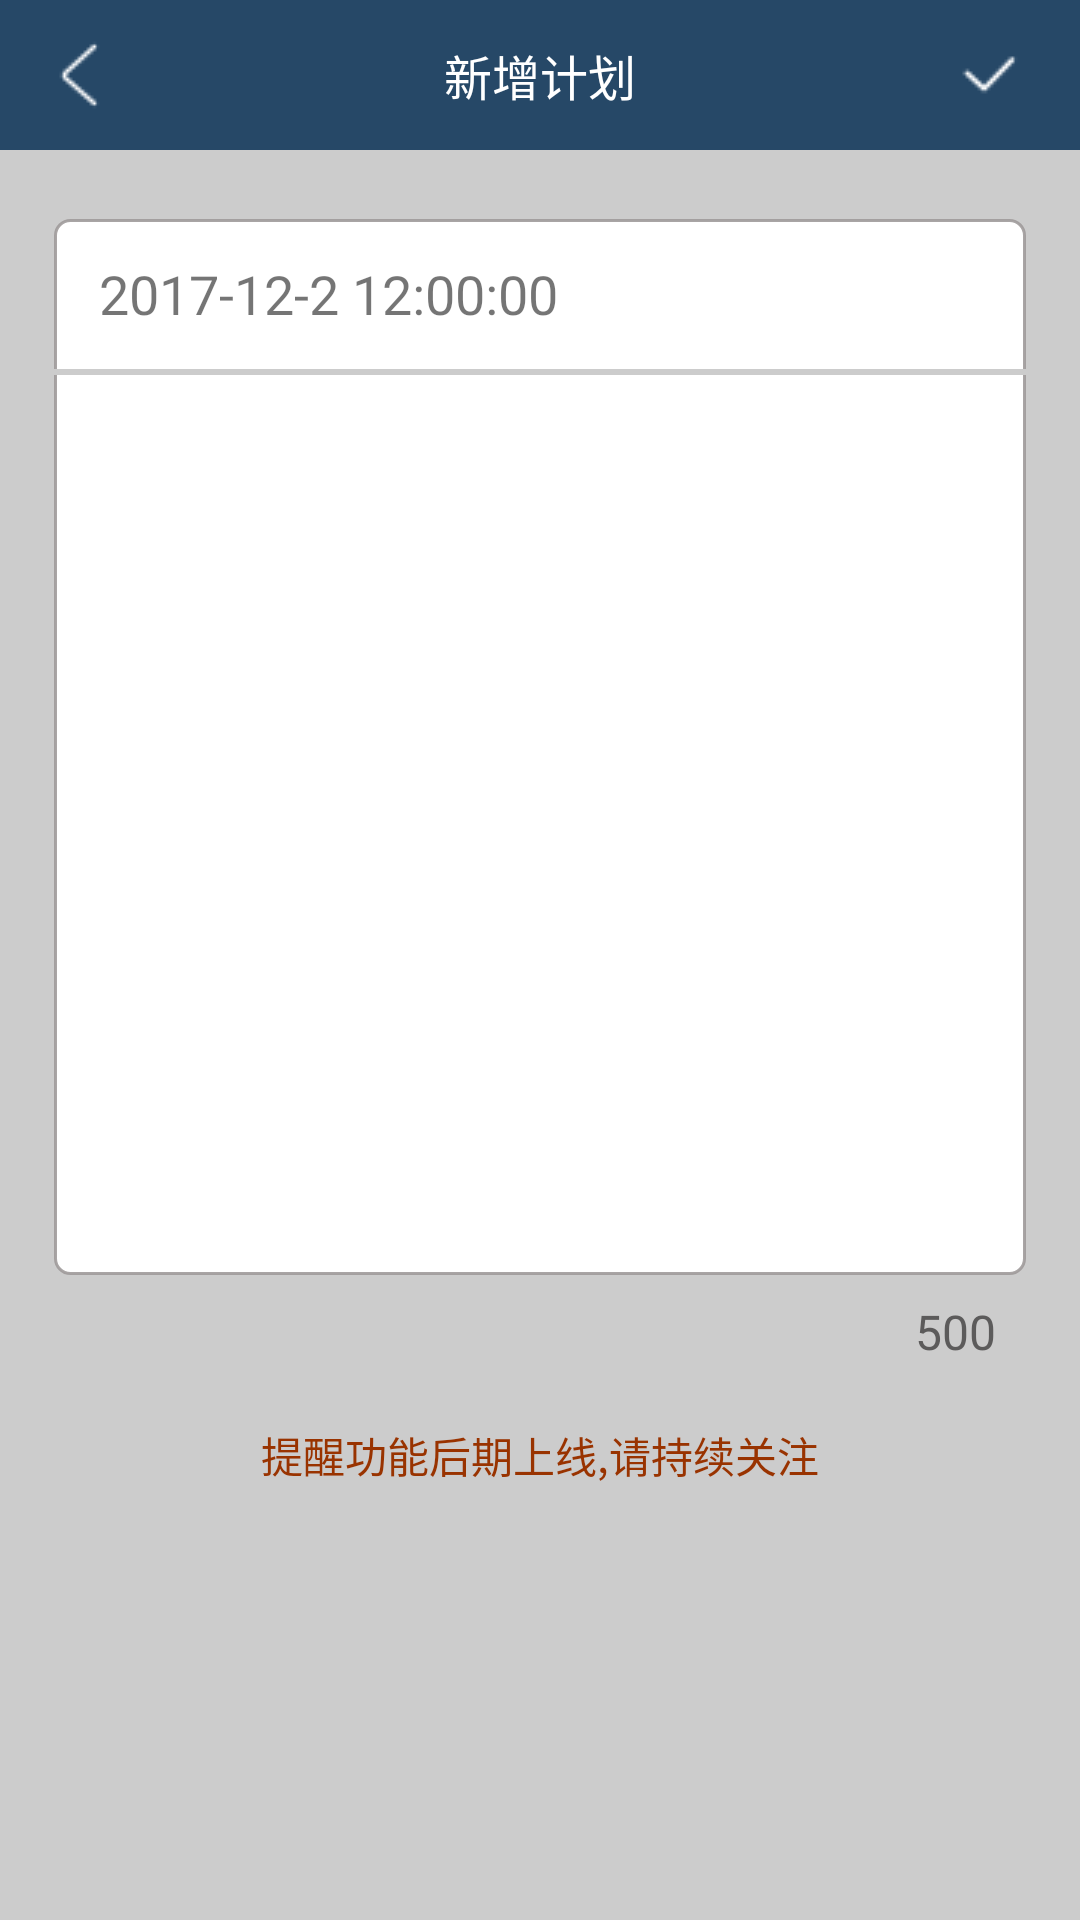

Named icons in this screenshot (1080x1920) and their bounding boxes, (x1, y1, x2, y2):
back: (61, 44, 97, 106)
